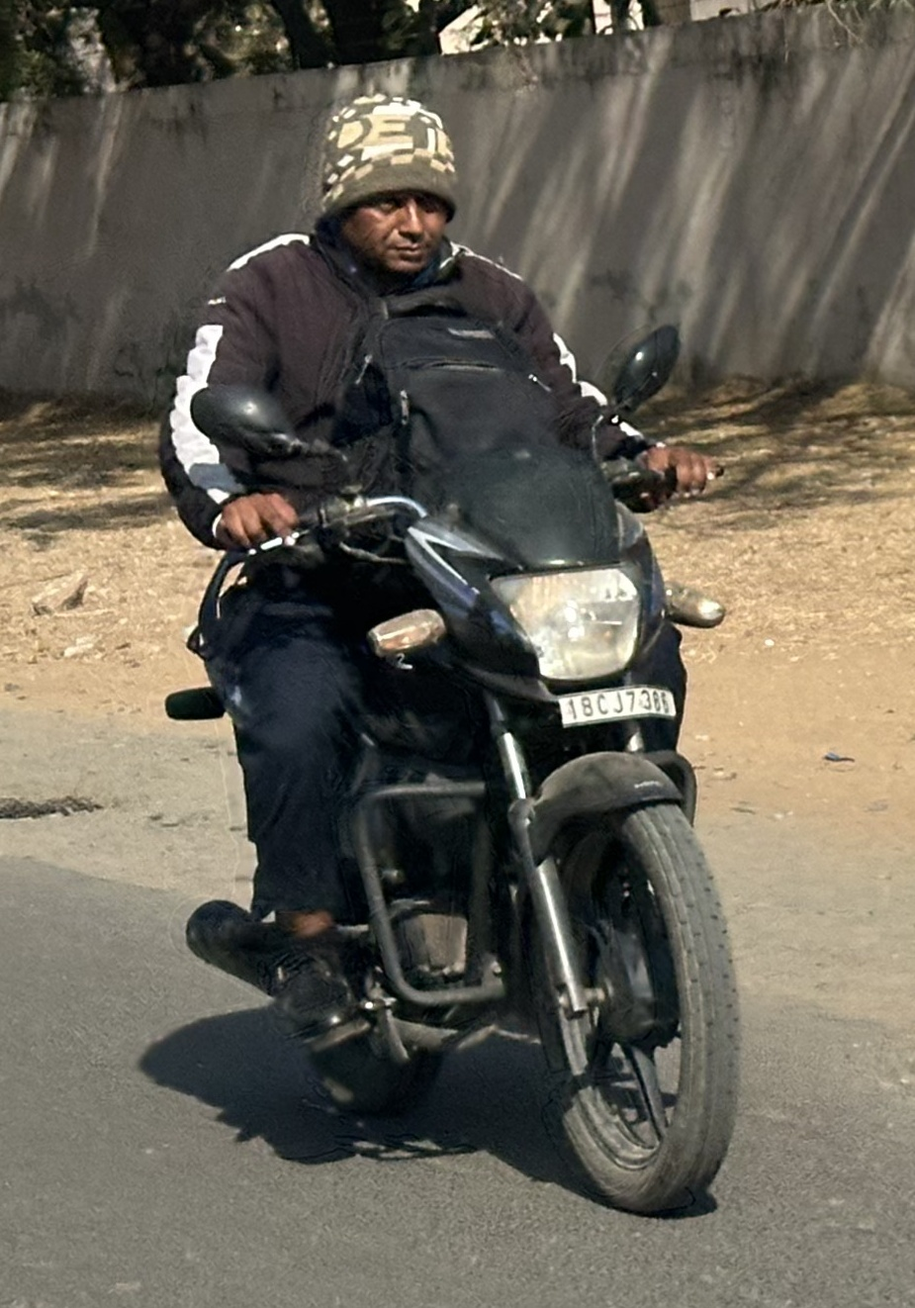BikeWithRider: (135, 83, 764, 1227)
NoHelmet: (292, 86, 482, 290)
